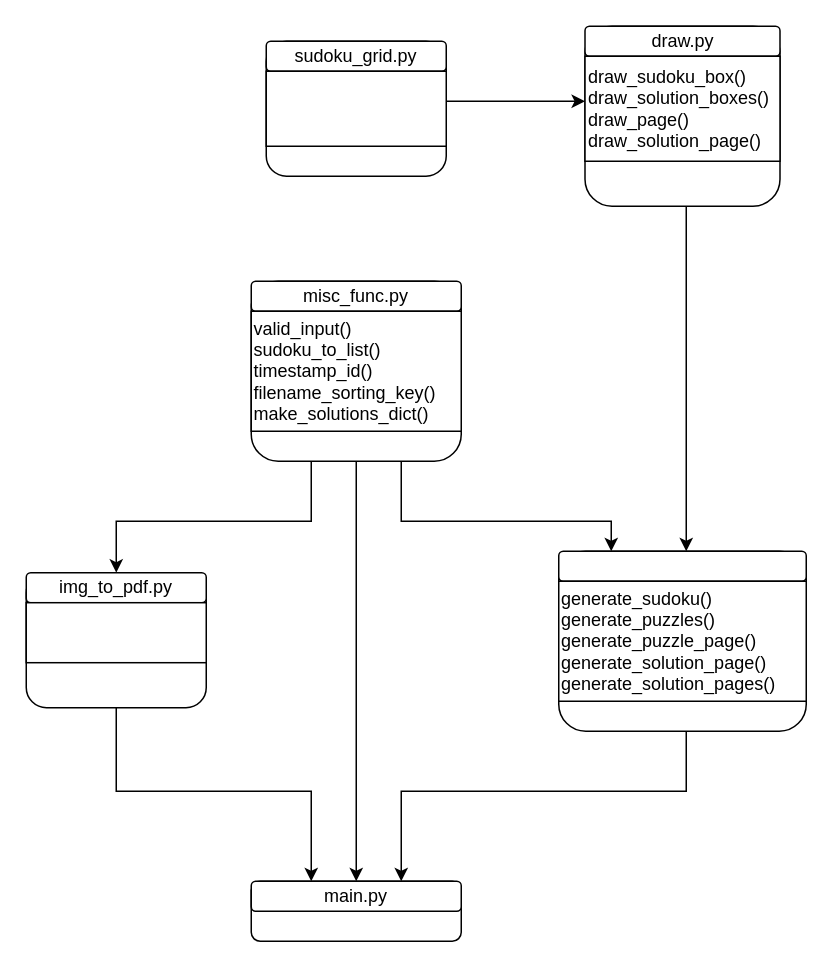
This 833x980 diagram has some shape labels left out. The shapes that lost their labels are listed below. From the top down, each one's box as (x1, y1, x2, y2) in pixels, then its label:
(265, 70, 446, 146): draw_grid() draw_numbers() draw_titles()
(557, 550, 806, 581): generate.py
(25, 601, 206, 663): generate_pdf()
